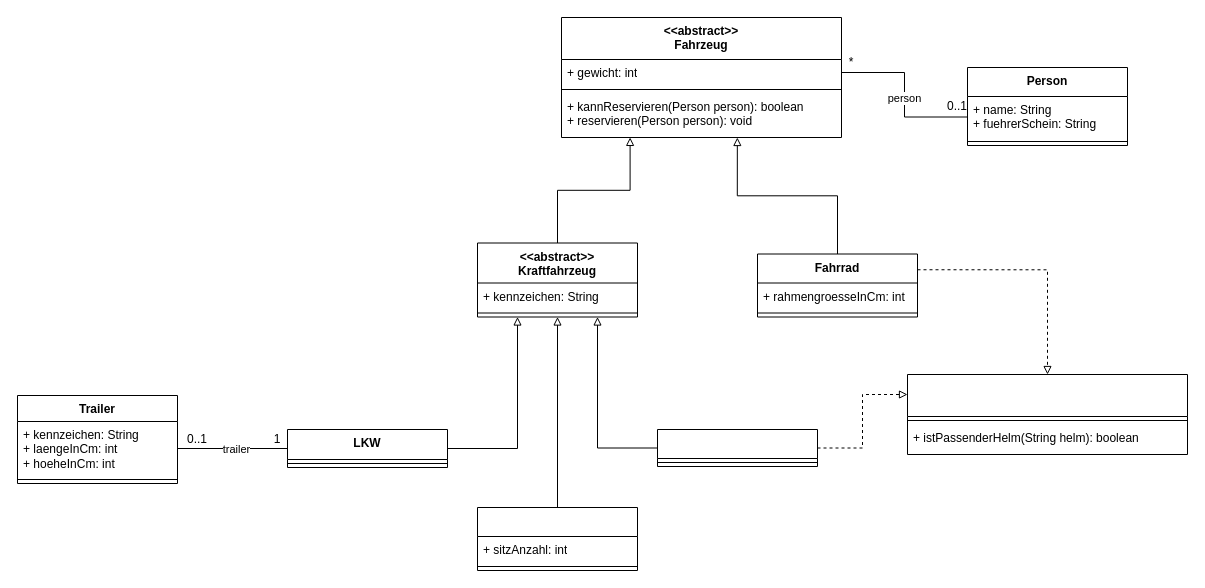
This 1205x588 diagram has some shape labels left out. The box of each missing label's shape, as (x1, y1, x2, y2) in pixels:
<<interface>> Einspurig: (906, 374, 1188, 454)
Moped: (656, 428, 818, 466)
PKW: (476, 506, 638, 570)
